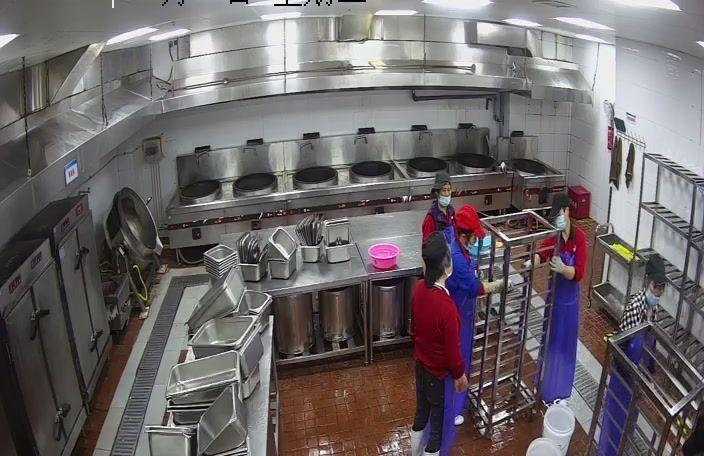mask: (438, 184, 454, 210)
